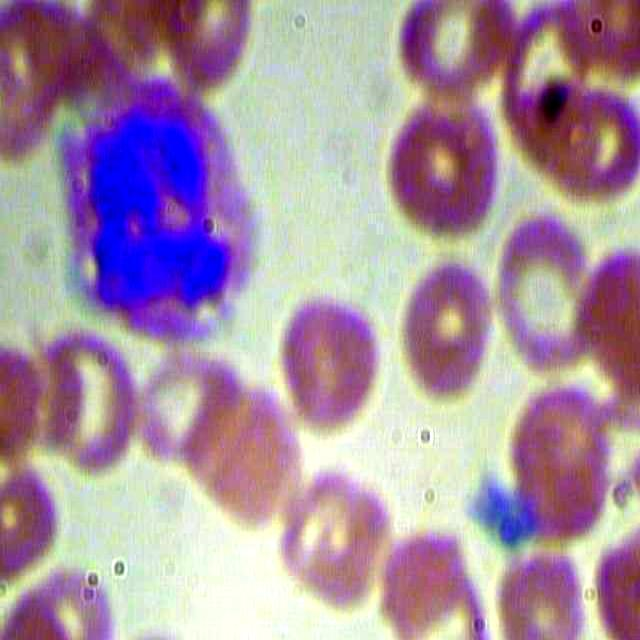WBC: (46, 77, 279, 352)
